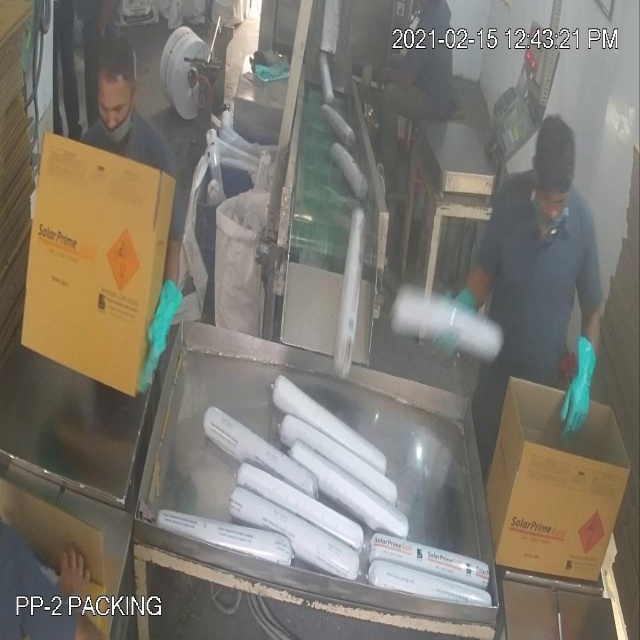Guantes: (133, 261, 186, 406), (558, 337, 604, 447)
Sin_guantes: (52, 532, 101, 608), (374, 63, 418, 98)
